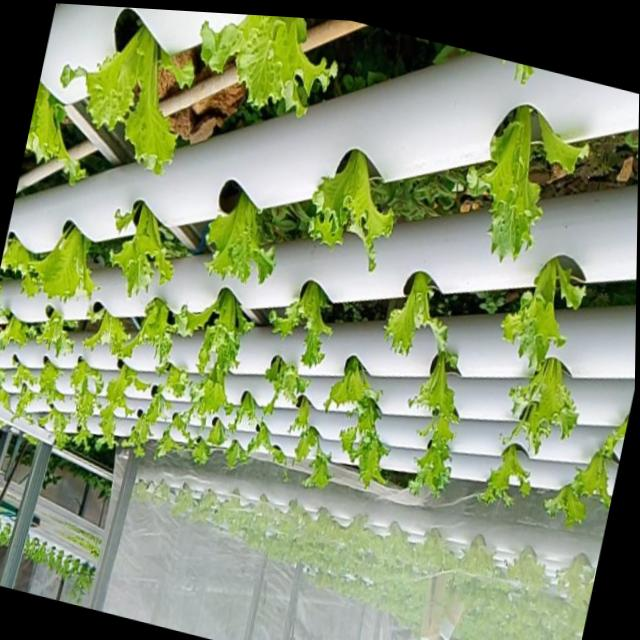Baby: (60, 30, 192, 177), (199, 15, 334, 118), (464, 106, 537, 259), (306, 148, 392, 269), (497, 255, 579, 365), (407, 338, 456, 491), (204, 179, 273, 281), (503, 353, 573, 449), (109, 200, 174, 294), (109, 295, 186, 366), (30, 224, 97, 304), (268, 278, 330, 364), (382, 268, 444, 352), (339, 395, 385, 483), (565, 429, 614, 502), (247, 352, 307, 410), (322, 352, 379, 407), (475, 439, 526, 499), (68, 355, 101, 441), (187, 360, 231, 421), (36, 406, 68, 446), (36, 359, 60, 402), (10, 382, 33, 418), (161, 363, 186, 396), (165, 409, 188, 438)
